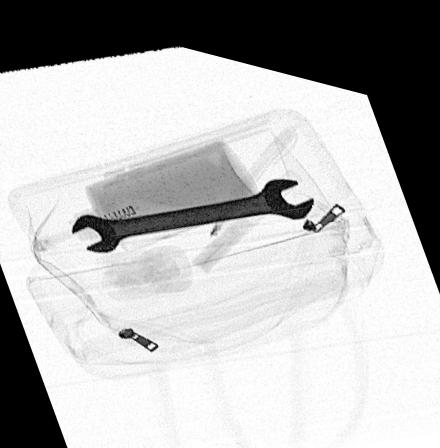Wrench: (69, 163, 314, 248)
